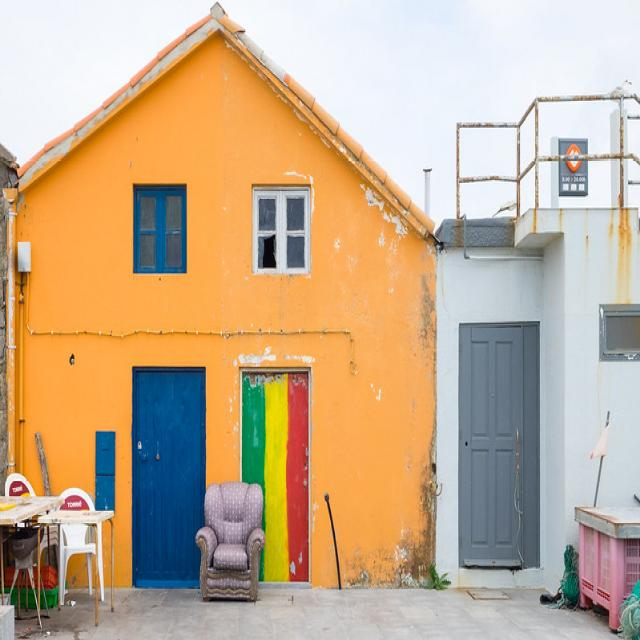Normal_building: (15, 7, 441, 593)
